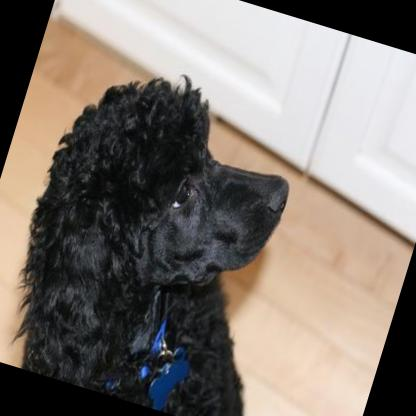standard_poodle: (0, 39, 341, 416)
